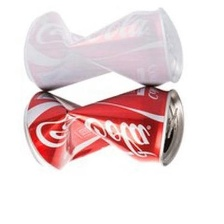can: (17, 85, 189, 175), (20, 6, 190, 91)
